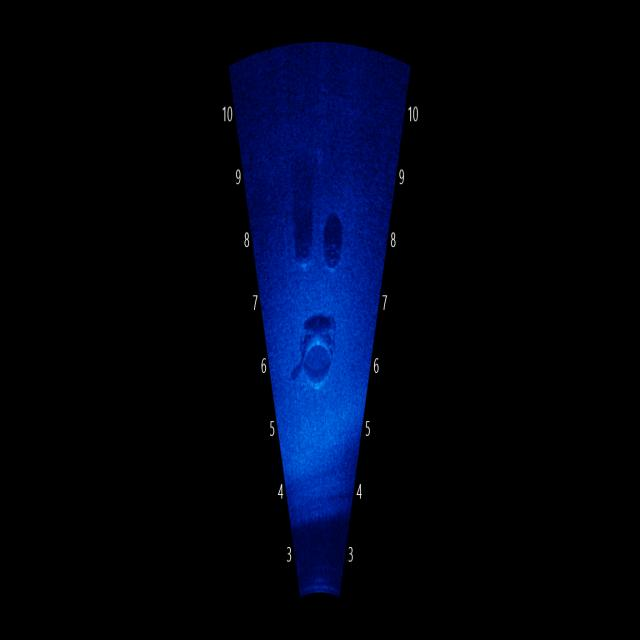circle: (301, 334, 336, 390)
